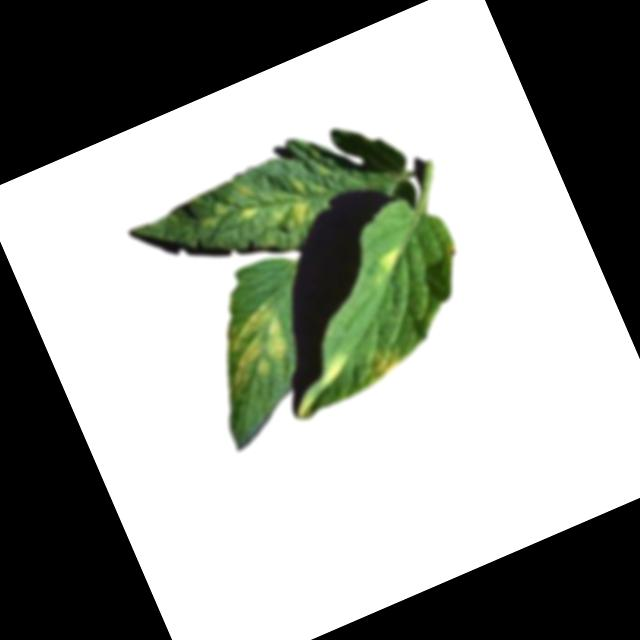Leaf_Mold: (193, 160, 320, 261), (209, 302, 298, 393), (365, 339, 409, 382), (374, 244, 409, 280), (321, 350, 355, 385)
